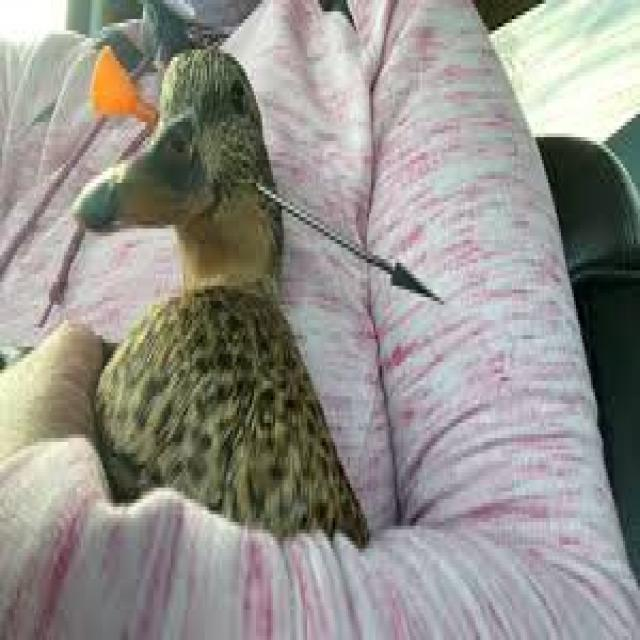Duck: (70, 37, 376, 559)
